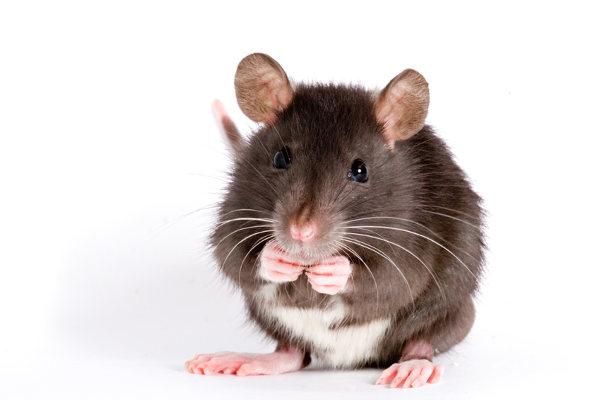rat: (180, 50, 488, 391)
